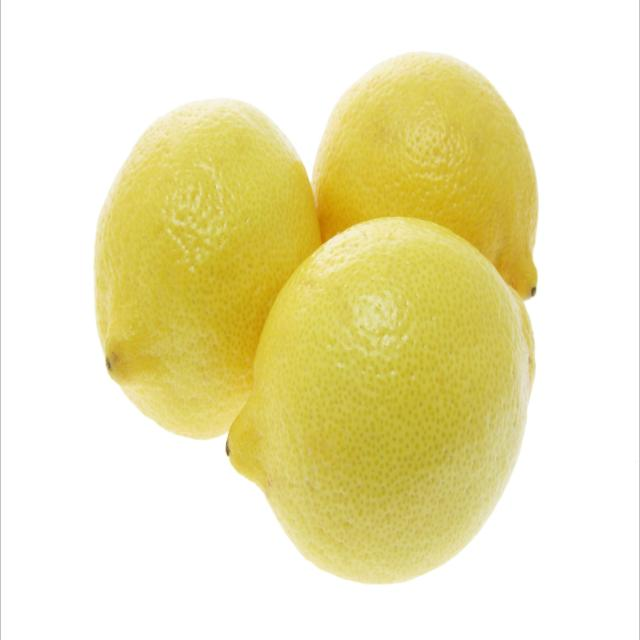lemon: (225, 212, 540, 592)
